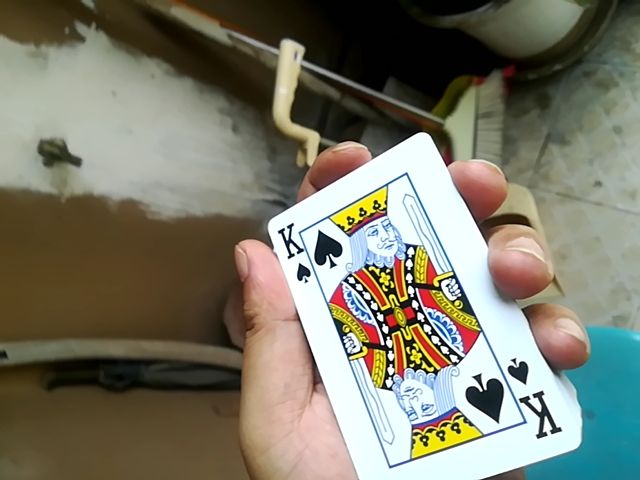ht k: (245, 142, 582, 478)
